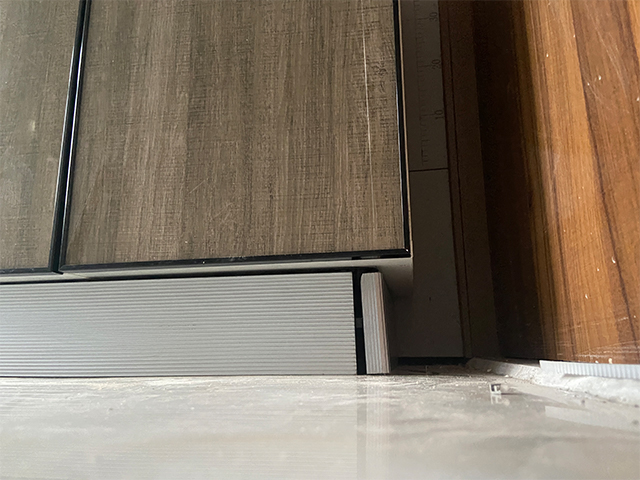cabinet: (1, 1, 416, 378)
